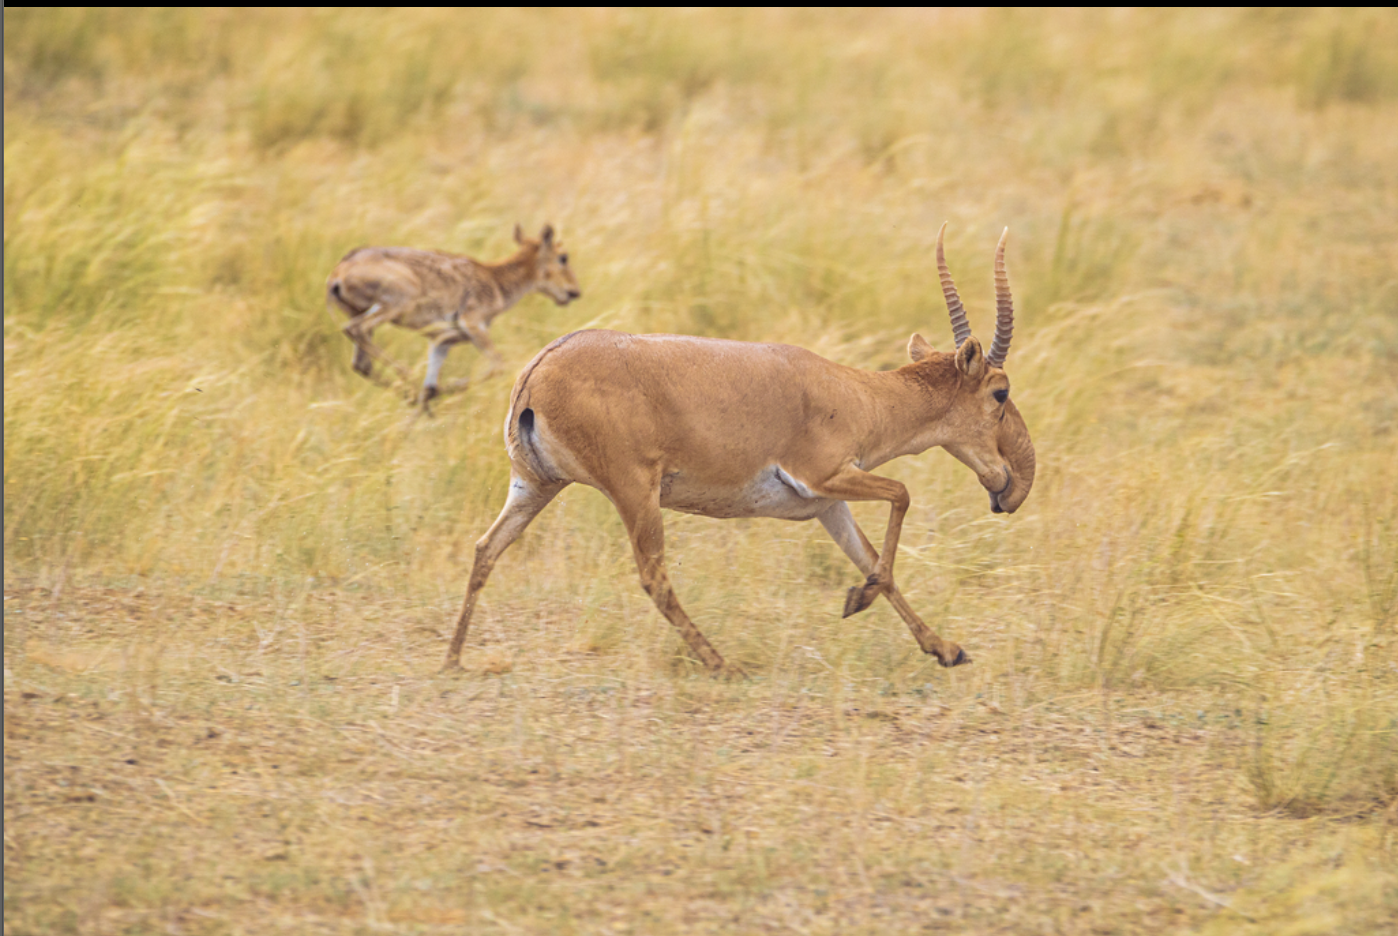saiga: (469, 226, 1060, 727)
